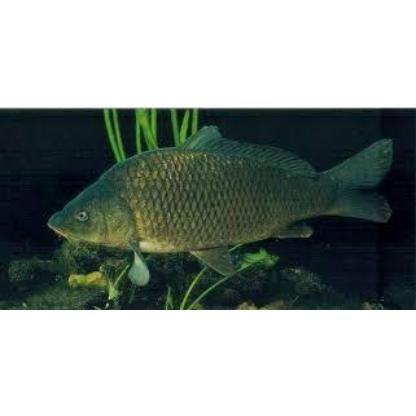ikan-mas: (47, 132, 390, 260)
